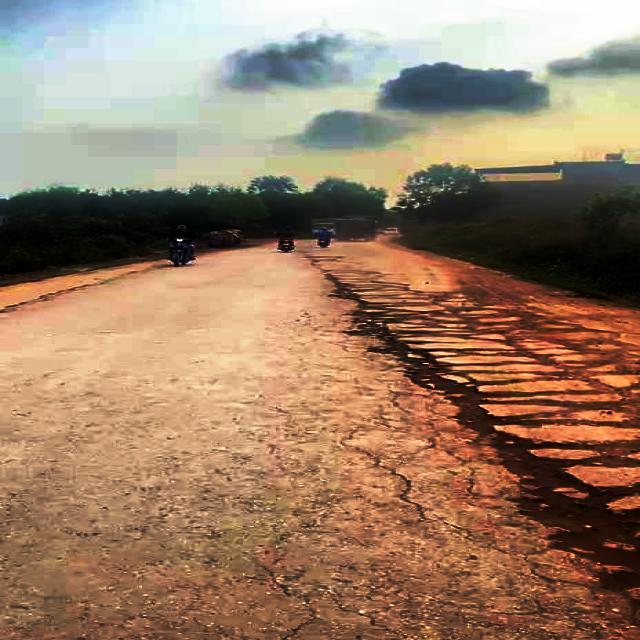pothole: (477, 432, 640, 606), (412, 370, 523, 436), (352, 323, 447, 380), (330, 284, 419, 328)
